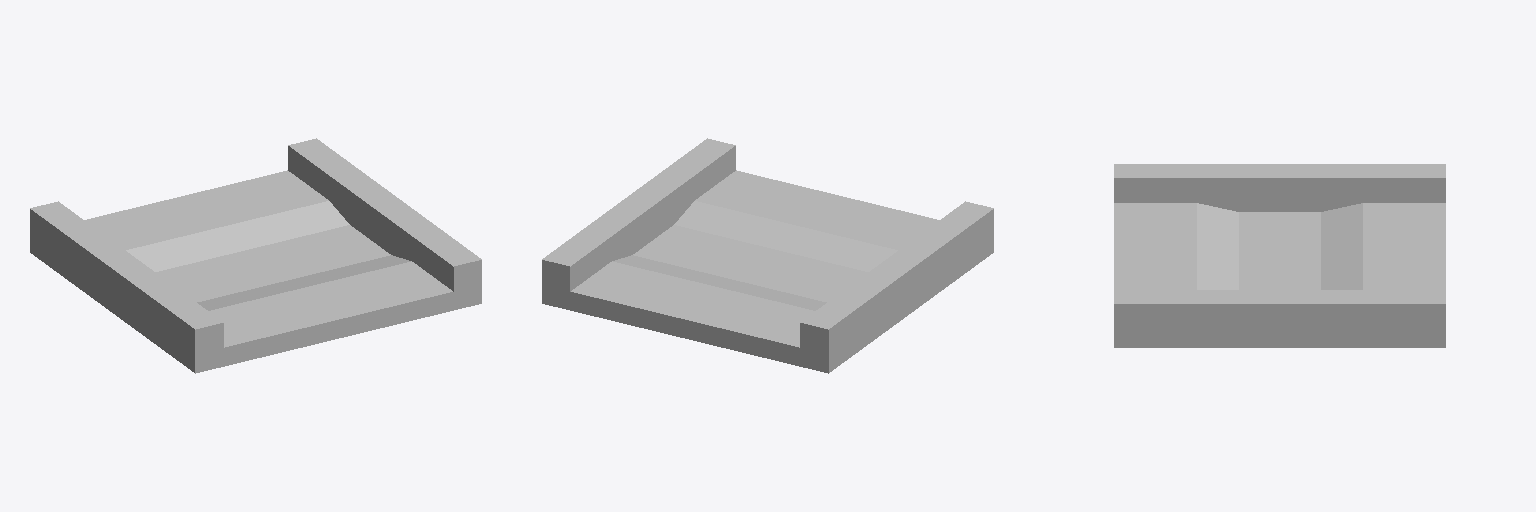
The model's file is crest.obj.
3 renders of one model, left to right at view 1: azimuth 30°, elevation 25°; view 2: azimuth 150°, elevation 25°; view 3: azimuth 270°, elevation 25°, orthographic.
Parts seen in each view (by area): view 1: crest; view 2: crest; view 3: crest.
Boxes of the visible parts, x1=… form: crest: x1=30, y1=138, x2=481, y2=373; crest: x1=542, y1=138, x2=993, y2=373; crest: x1=1114, y1=164, x2=1445, y2=347.
Bounding box in the file's own units: 0.9999 × 0.1467 × 0.9999.